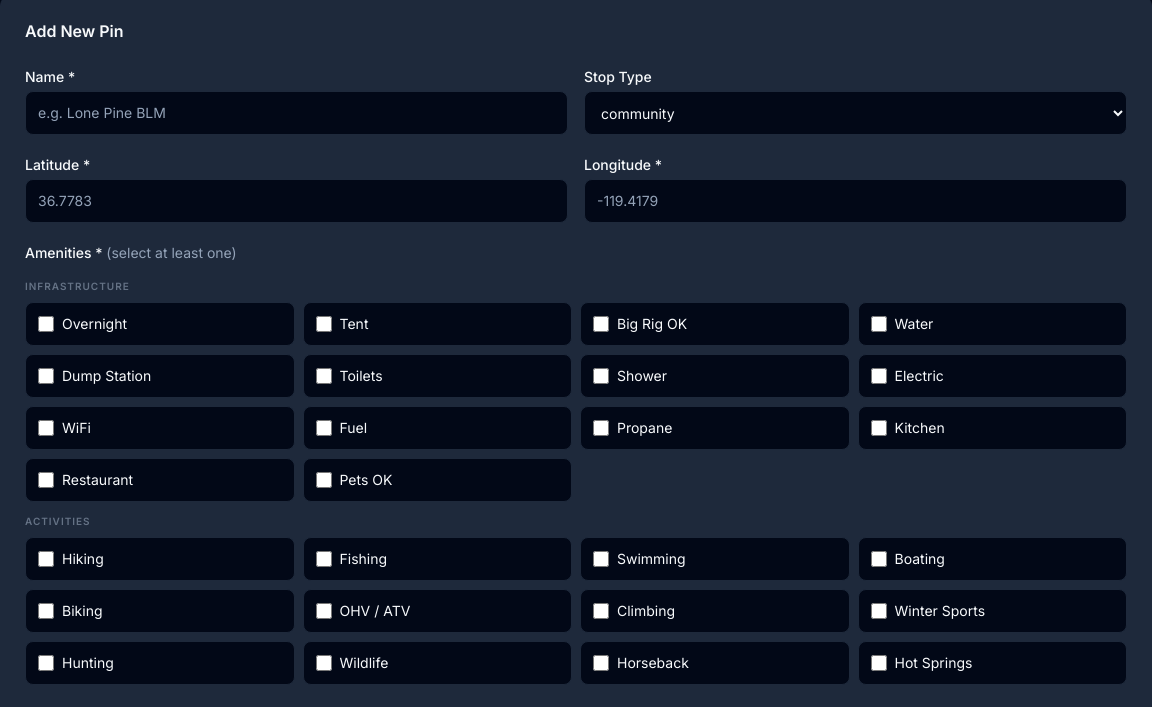
Test: CreatePinForm › shows error when no amenity is checked (4.6)
Type "Test Spot" into the field labelled "Name *".
click(296, 113); type("Test Spot")  # box x1=25 y1=91 x2=568 y2=135
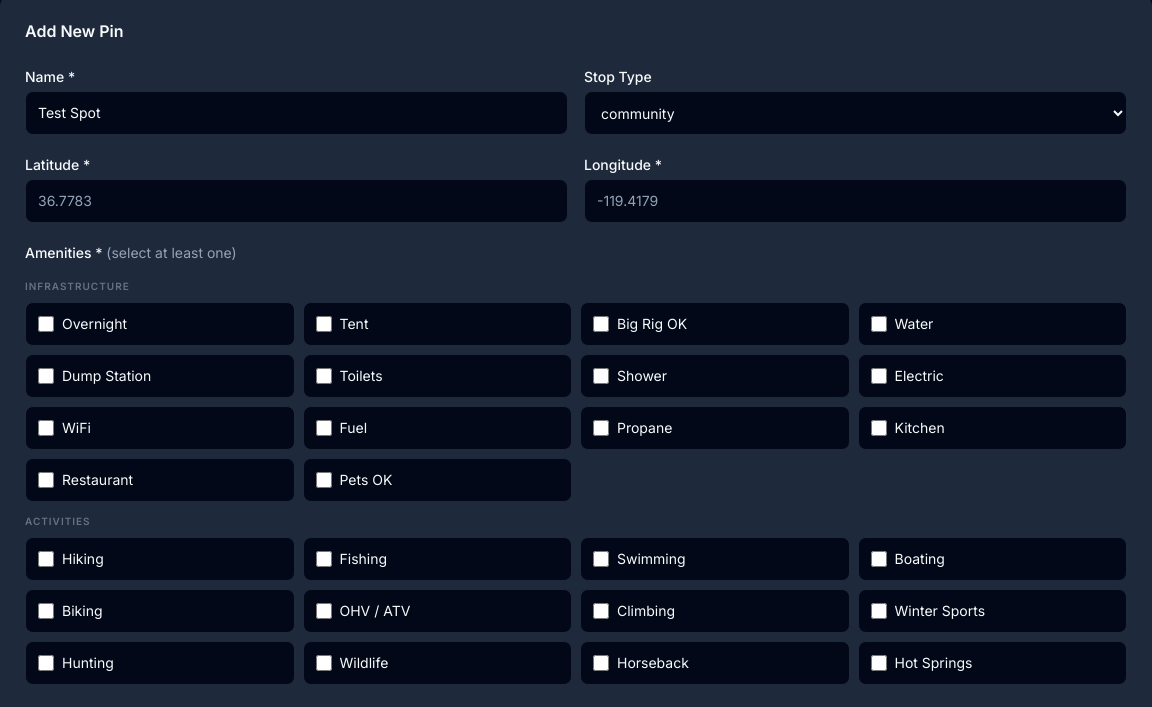
Type "37.5" into the number field labelled "Latitude *".
click(296, 201); type("37.5")  # box x1=25 y1=179 x2=568 y2=223
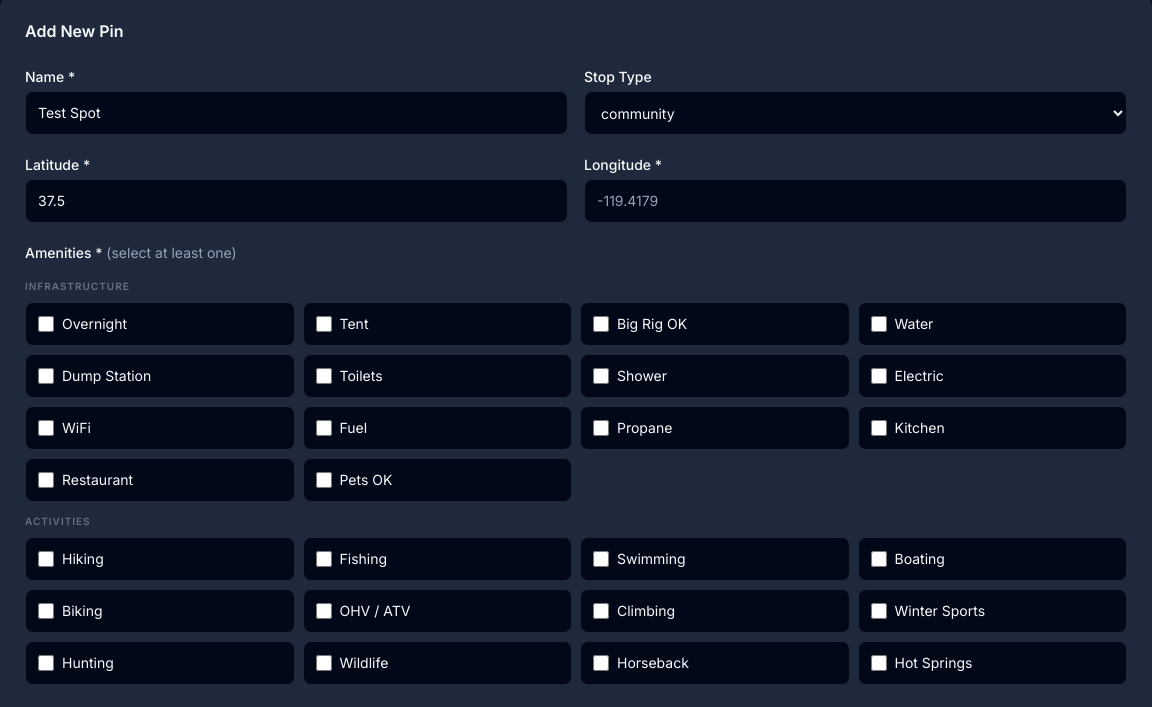
Type "-107.5" into the number field labelled "Longitude *".
click(856, 201); type("-107.5")  # box x1=584 y1=179 x2=1127 y2=223
(page scrolled)
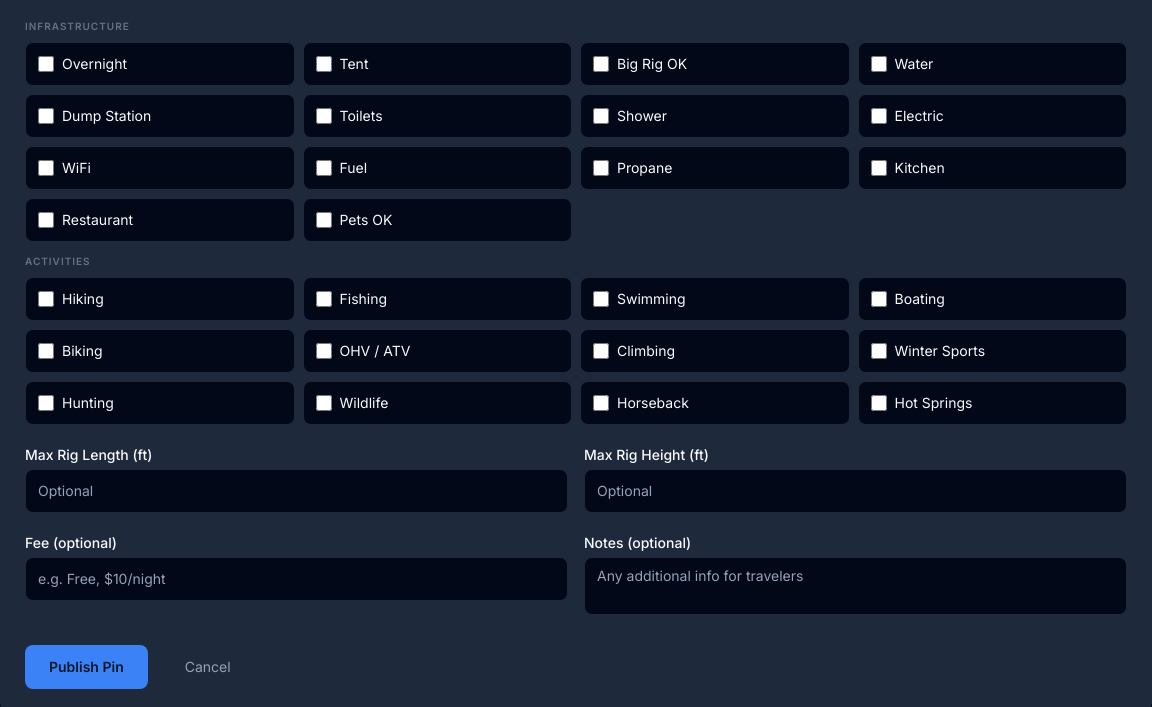
Click the button "Publish Pin".
click(86, 667)  # box x1=25 y1=645 x2=148 y2=689
(page scrolled)
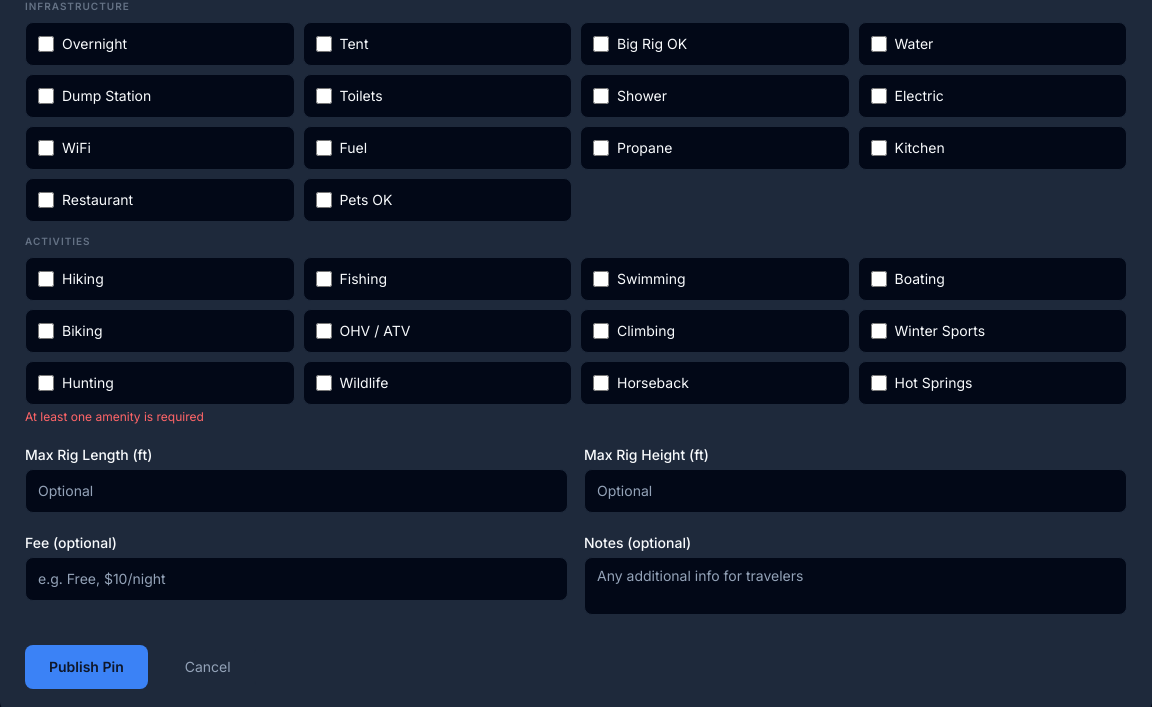
Result: the text "At least one amenity is required" is shown at x1=25 y1=409 x2=204 y2=424
